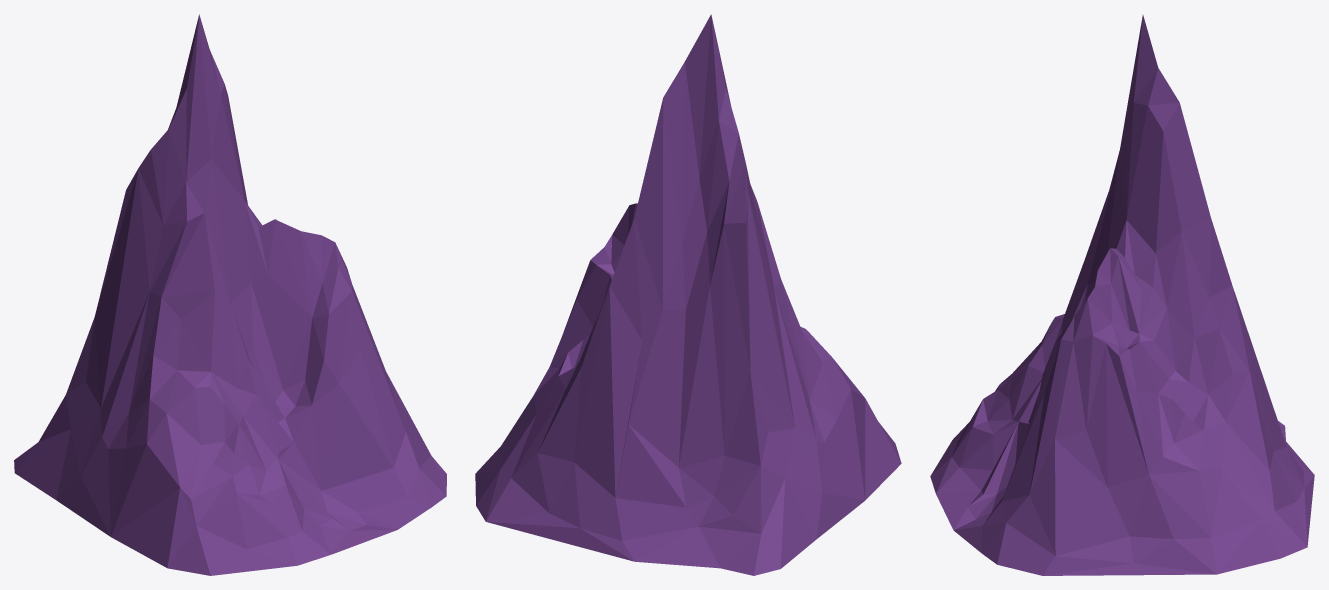
The model's file is VL_Mountain02.fbx.
3 views of the same model, side by side, from view 1: azimuth 30°, elevation 25°; view 2: azimuth 150°, elevation 25°; view 3: azimuth 270°, elevation 25° (orthographic). The views are drawn at different scales.
Visible parts, largest first — view 1: VL_Mountain02; view 2: VL_Mountain02; view 3: VL_Mountain02.
Part boxes in pixels (bbox=[...]): VL_Mountain02: bbox=[14, 14, 446, 575]; VL_Mountain02: bbox=[475, 14, 901, 575]; VL_Mountain02: bbox=[930, 15, 1314, 575].
Size of the model in its own units: 380 by 529 by 395.
Materials: 1 (1 with a texture image).
